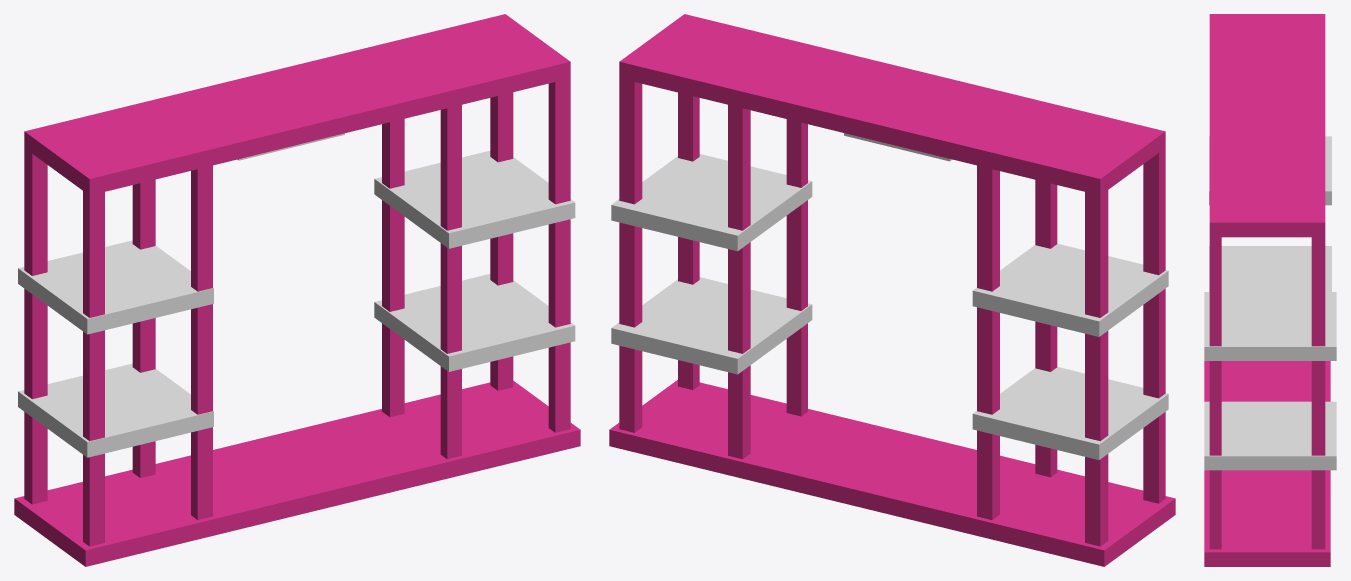
File: Shelf_Pink.fbx
The picture shows the model from 3 angles, left to right: view 1: azimuth 30°, elevation 25°; view 2: azimuth 150°, elevation 25°; view 3: azimuth 270°, elevation 25°; orthographic projection. The views are drawn at different scales.
Parts seen in each view (by area): view 1: Cube.001, Cube, Cube.004, Cube.005, Cube.002, Cube.003; view 2: Cube.001, Cube, Cube.004, Cube.005, Cube.003, Cube.002; view 3: Cube.001, Cube, Cube.004, Cube.005, Cube.002, Cube.003.
Part boxes in pixels (box(x1,y1,x2,y2)): Cube.001: box(24, 14, 570, 546); Cube: box(14, 381, 580, 566); Cube.004: box(374, 274, 575, 371); Cube.005: box(374, 150, 575, 248); Cube.002: box(18, 363, 213, 457); Cube.003: box(18, 240, 213, 334); Cube.001: box(619, 14, 1165, 546); Cube: box(609, 380, 1175, 566); Cube.004: box(611, 277, 812, 374); Cube.005: box(611, 154, 812, 251); Cube.003: box(972, 243, 1168, 336); Cube.002: box(972, 367, 1168, 459); Cube.001: box(1209, 14, 1325, 549); Cube: box(1204, 361, 1330, 566); Cube.004: box(1204, 401, 1336, 470); Cube.005: box(1204, 292, 1336, 360); Cube.002: box(1209, 246, 1331, 291); Cube.003: box(1209, 136, 1331, 205).
Size of the model in its own units: 341 by 253 by 88.71.
